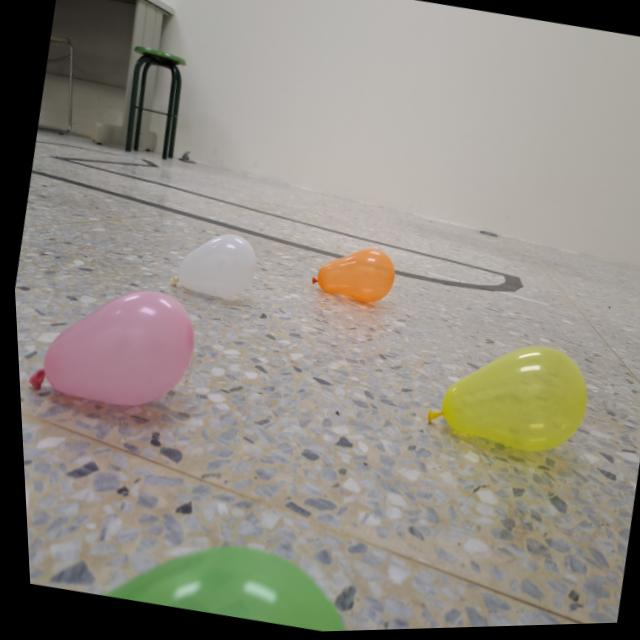other: (54, 511, 369, 639), (17, 269, 201, 424), (414, 328, 595, 470), (160, 223, 261, 309), (306, 238, 398, 310)
